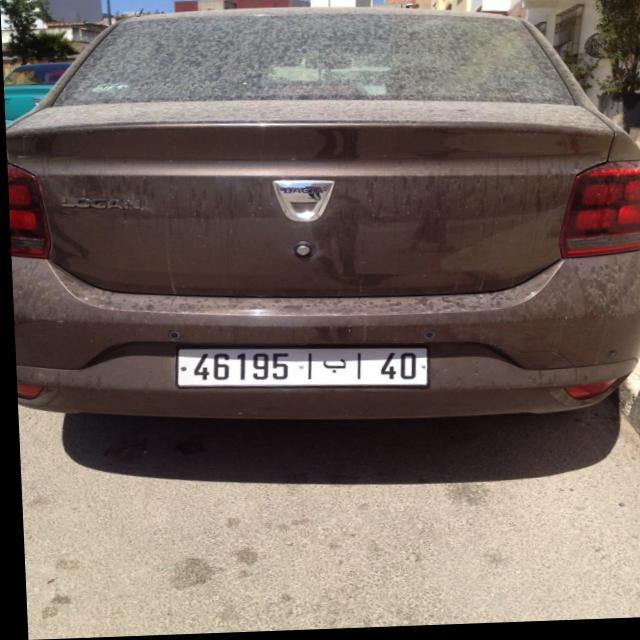License-Plate: (174, 349, 426, 390)
